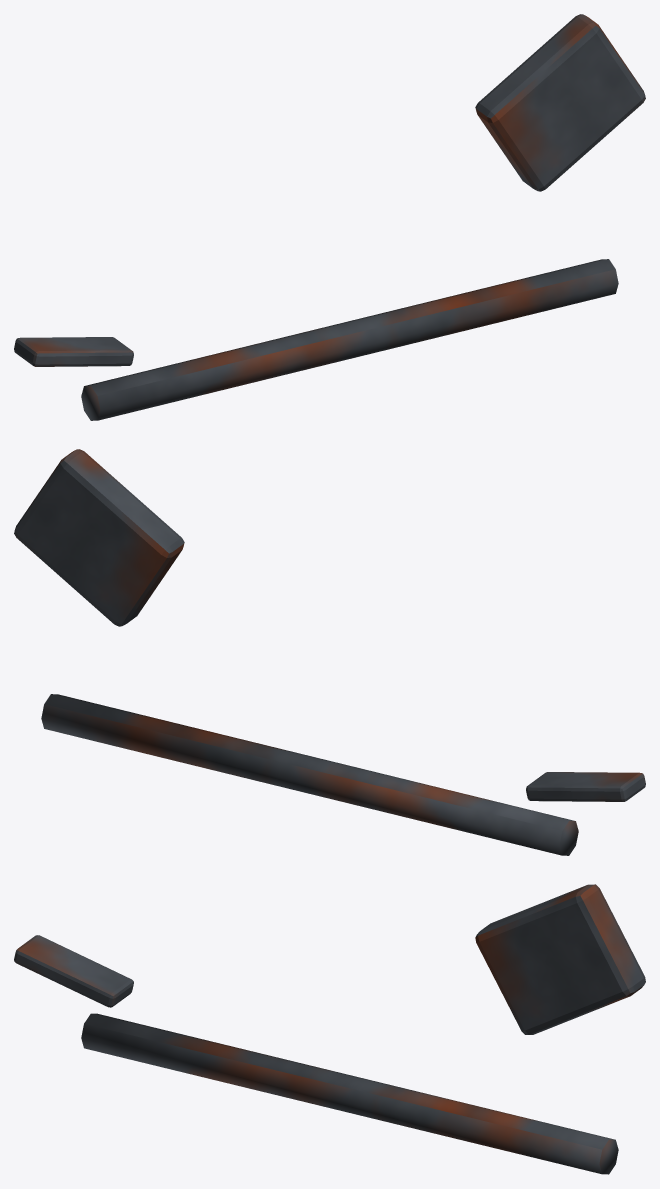
The model's file is item_crowbar.glb.
The picture shows the model from 3 angles, top to bottom: view 1: azimuth 30°, elevation 25°; view 2: azimuth 150°, elevation 25°; view 3: azimuth 330°, elevation 25°; orthographic projection.
Visible parts, largest first — view 1: Shaft, CurvedHook, PryChisel; view 2: Shaft, CurvedHook, PryChisel; view 3: Shaft, CurvedHook, PryChisel.
Boxes of the visible parts, x1,y1,x2,y2 form: Shaft: (81, 259, 618, 420); CurvedHook: (475, 14, 645, 191); PryChisel: (14, 337, 133, 366); Shaft: (41, 694, 578, 855); CurvedHook: (14, 449, 184, 626); PryChisel: (526, 772, 645, 801); Shaft: (81, 1013, 618, 1174); CurvedHook: (475, 884, 645, 1034); PryChisel: (14, 935, 133, 1007).
Bounding box in the file's own units: 0.6656 × 0.2902 × 0.042.
2 materials, 2 textured.
